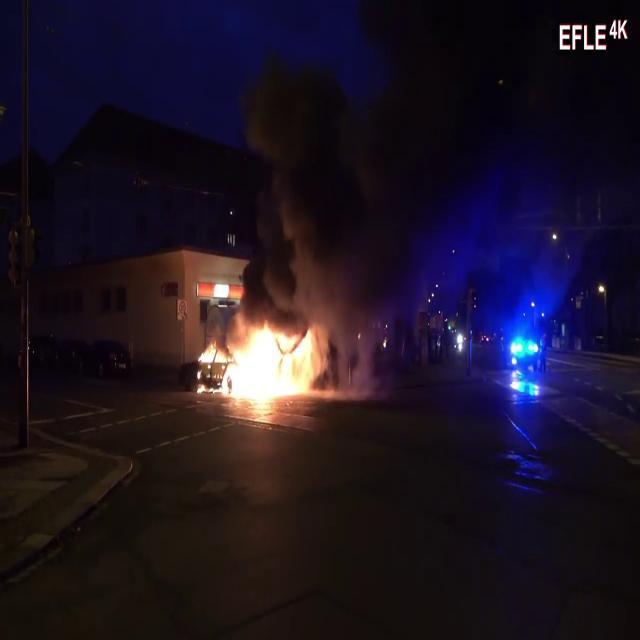Fire: (195, 314, 324, 412)
Smoke: (237, 8, 518, 318)
